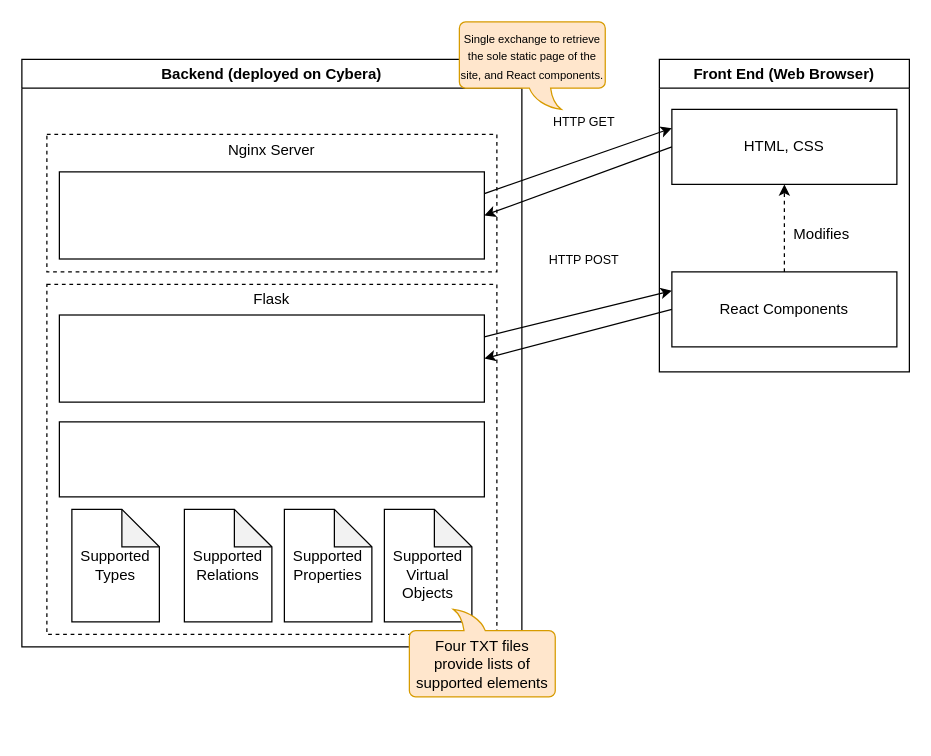
This 931x756 diagram has some shape labels left out. Here are the shapes that lost their labels. From the top down, the centre of each, then its label:
At [271,215]: "Static HTML/CSS Server".
At [271,358]: "JSON API".
At [271,459]: "Application Logic Layer (NLP Processing)".
